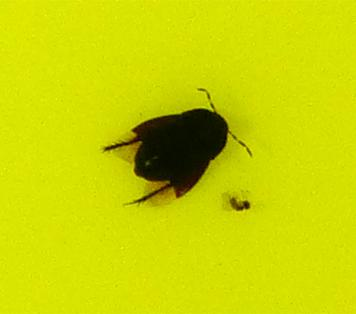Brachycera: (221, 187, 256, 214)
Coleoptera: (100, 100, 253, 209)
